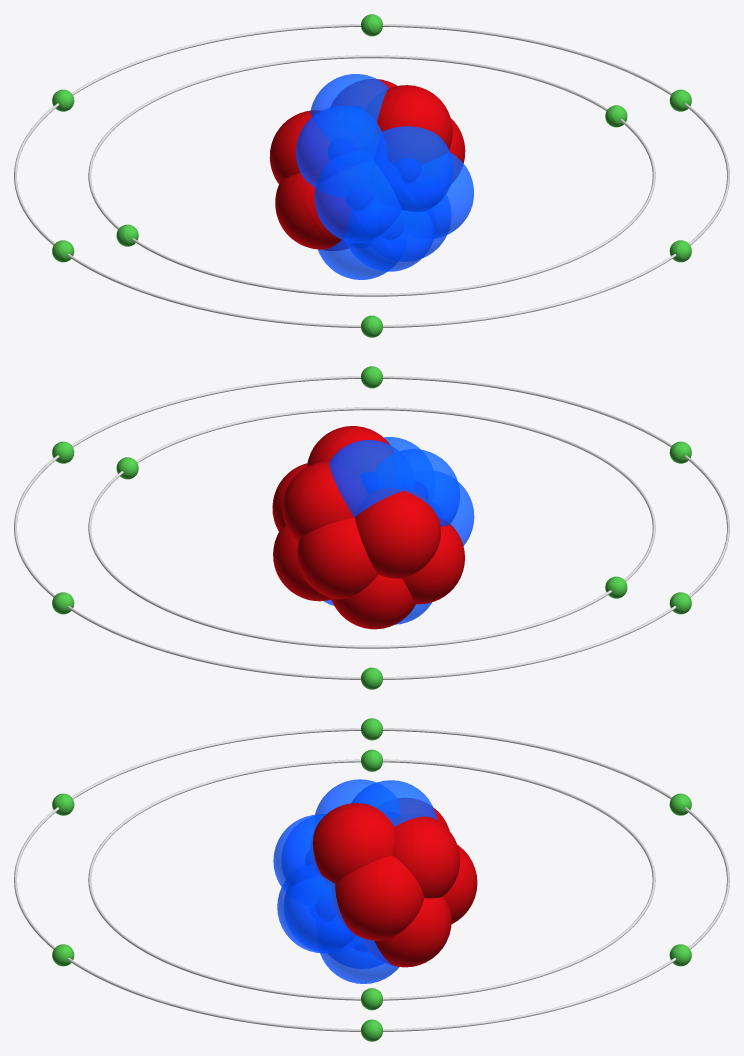
File: element_008_oxygen.glb
3 views of the same model, one above another, from view 1: azimuth 30°, elevation 25°; view 2: azimuth 150°, elevation 25°; view 3: azimuth 270°, elevation 25° (orthographic).
Visible parts, largest first — view 1: element_008_oxygen_nucleus, oxygen_orbital_1_6; view 2: element_008_oxygen_nucleus, oxygen_orbital_1_6; view 3: element_008_oxygen_nucleus, oxygen_orbital_1_6.
Part boxes in pixels (x1,y1,x2,y2): element_008_oxygen_nucleus: (269, 74, 473, 279); oxygen_orbital_1_6: (14, 14, 729, 337); element_008_oxygen_nucleus: (272, 426, 474, 629); oxygen_orbital_1_6: (14, 366, 729, 689); element_008_oxygen_nucleus: (273, 779, 477, 983); oxygen_orbital_1_6: (14, 718, 729, 1041).
Size of what is drawn, in the model's own units: 0.6287 by 0.1742 by 0.6121.
